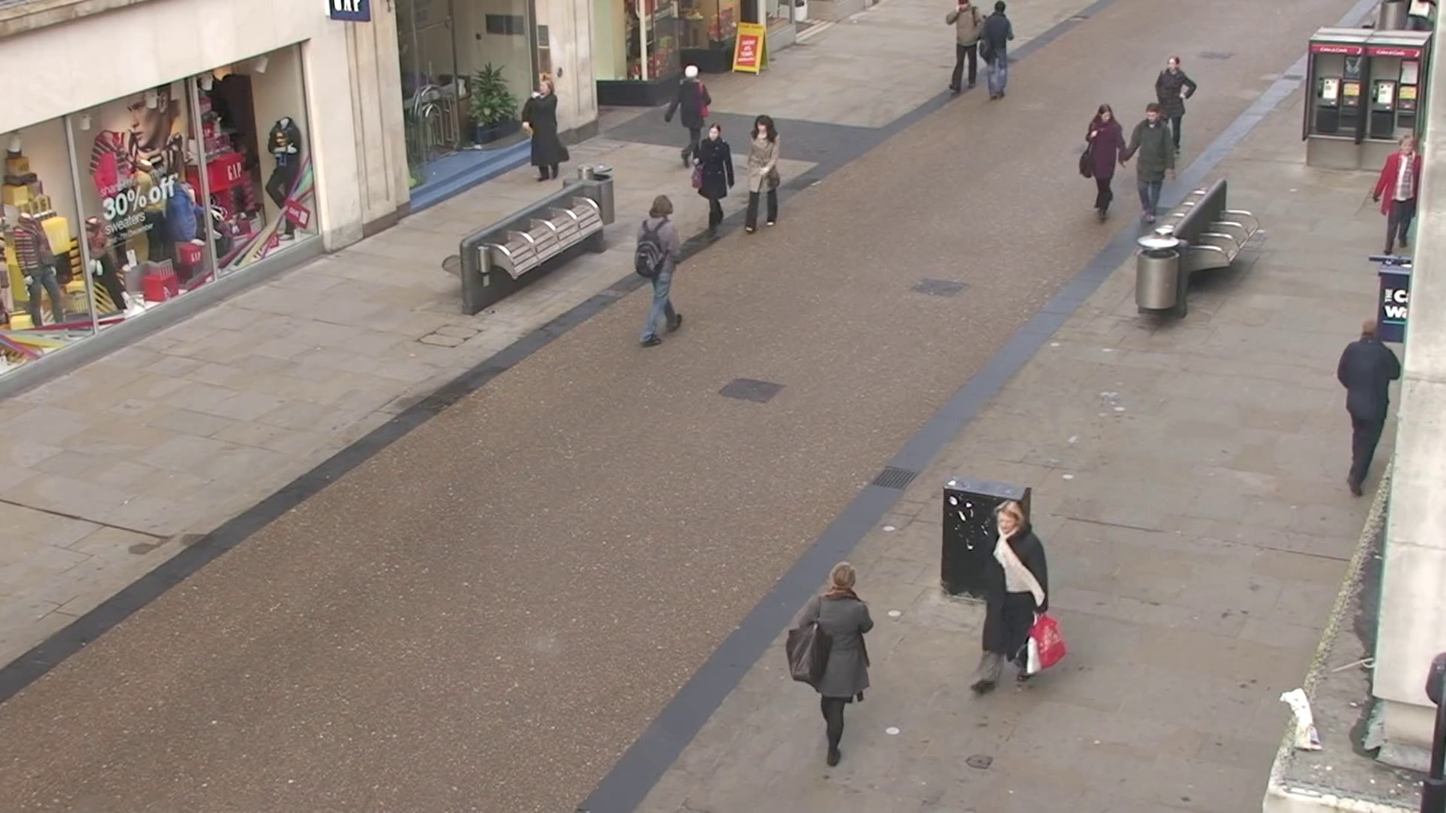person: (786, 561, 875, 768), (968, 498, 1051, 693), (1337, 316, 1402, 496), (634, 191, 685, 346), (1369, 129, 1425, 254), (1130, 102, 1180, 220), (1080, 104, 1127, 221), (690, 124, 737, 236), (519, 75, 567, 183), (264, 117, 306, 236), (740, 116, 780, 232), (1153, 54, 1197, 140), (977, 2, 1014, 100), (676, 62, 711, 155), (948, 1, 980, 95)
